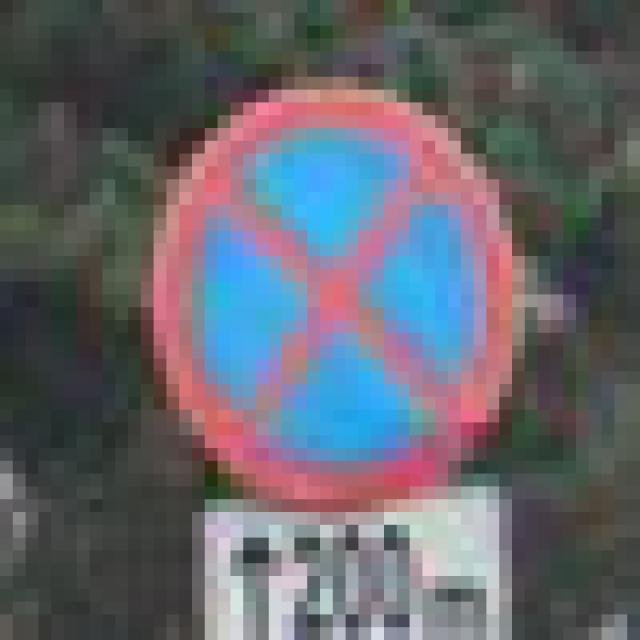no stopping or standing: (136, 83, 537, 508)
